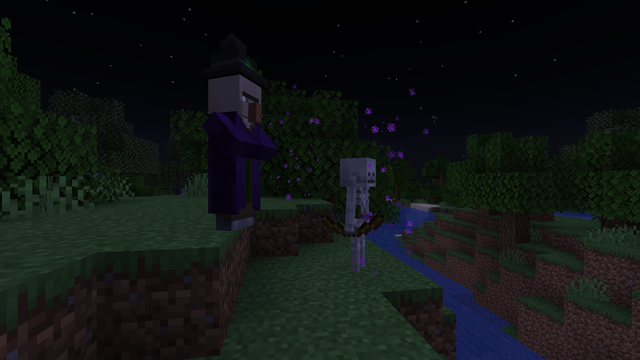sorcieres: (205, 66, 260, 232)
squelettes: (338, 158, 380, 275)
